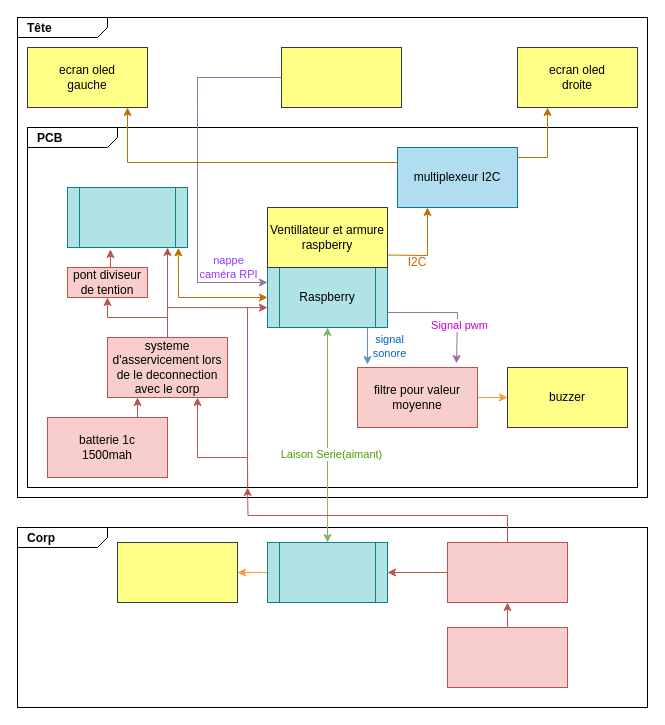
Some shapes in this 665 by 725 pixel diagram are drawn without their labels. Each missing label, with the box of its shape:
Arduino: (266, 542, 388, 602)
Batterie 1c 13000mah: (446, 626, 568, 688)
Camera: (280, 46, 402, 108)
convertiseur boost 5v: (446, 542, 568, 602)
esp32 (CAN): (66, 186, 188, 248)
systeme de deplacement: (116, 542, 238, 602)
